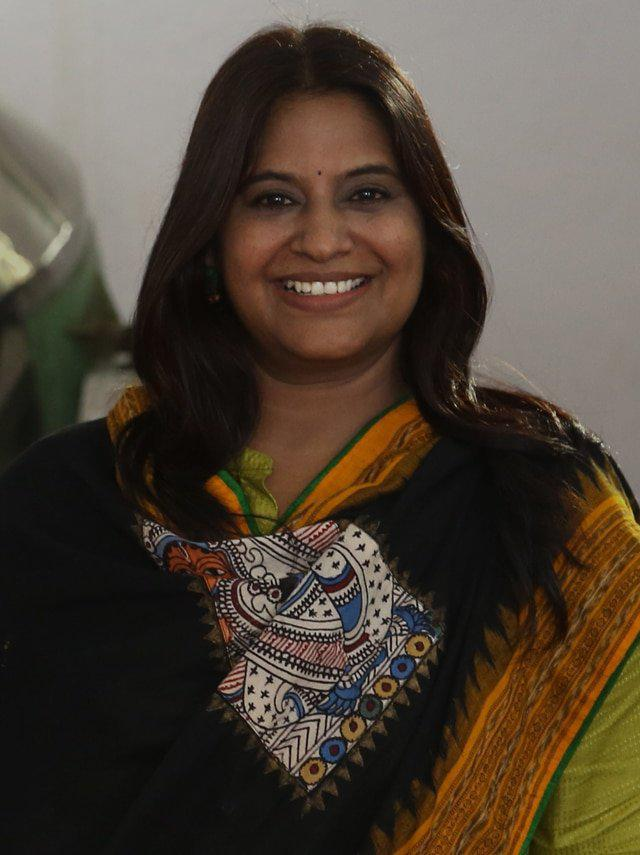Sober: (229, 86, 431, 355)
